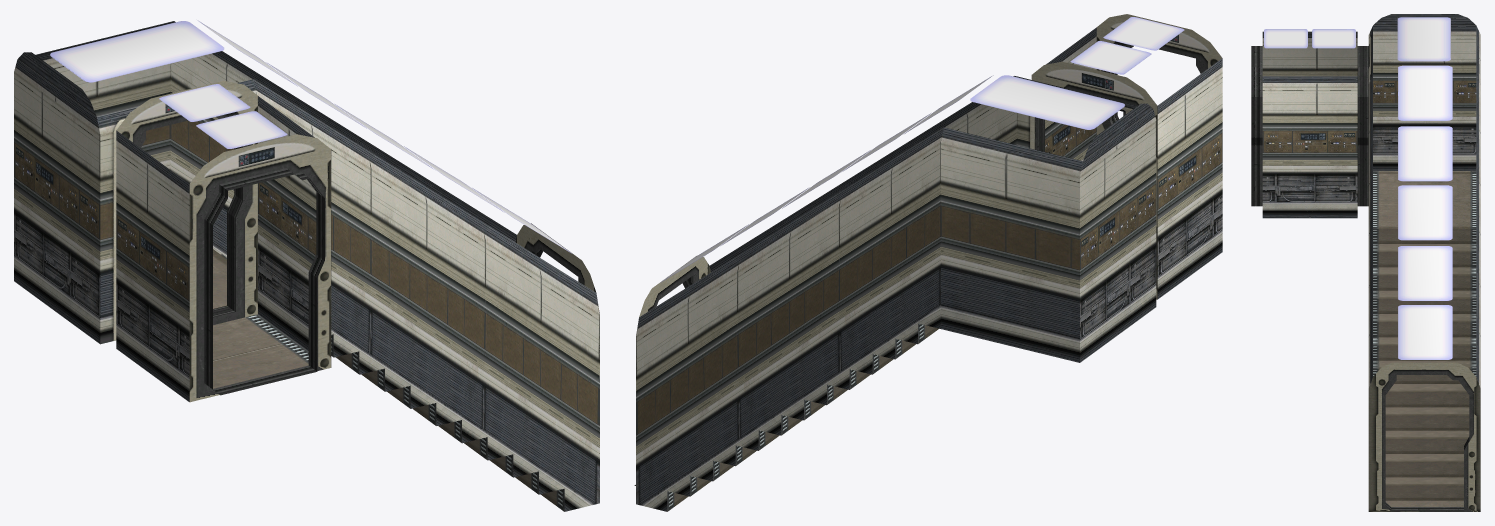
Rendered from sorosuub_space_yacht_r5_stairwell_mesh_r5.fbx.
The picture shows the model from 3 angles, left to right: view 1: azimuth 30°, elevation 25°; view 2: azimuth 150°, elevation 25°; view 3: azimuth 270°, elevation 25°; orthographic projection. The views are drawn at different scales.
Visible parts, largest first — view 1: mesh_node; view 2: mesh_node; view 3: mesh_node.
Part boxes in pixels (x1,y1,x2,y2): mesh_node: [14, 20, 599, 511]; mesh_node: [634, 14, 1222, 511]; mesh_node: [1251, 14, 1480, 511].
Bounding box in the file's own units: 6.9 × 6.7 × 4.1.
